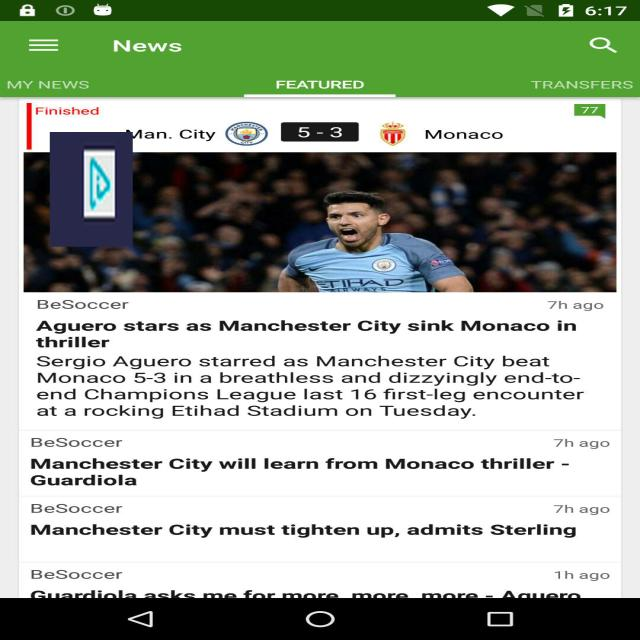sneaking: (50, 132, 133, 247)
